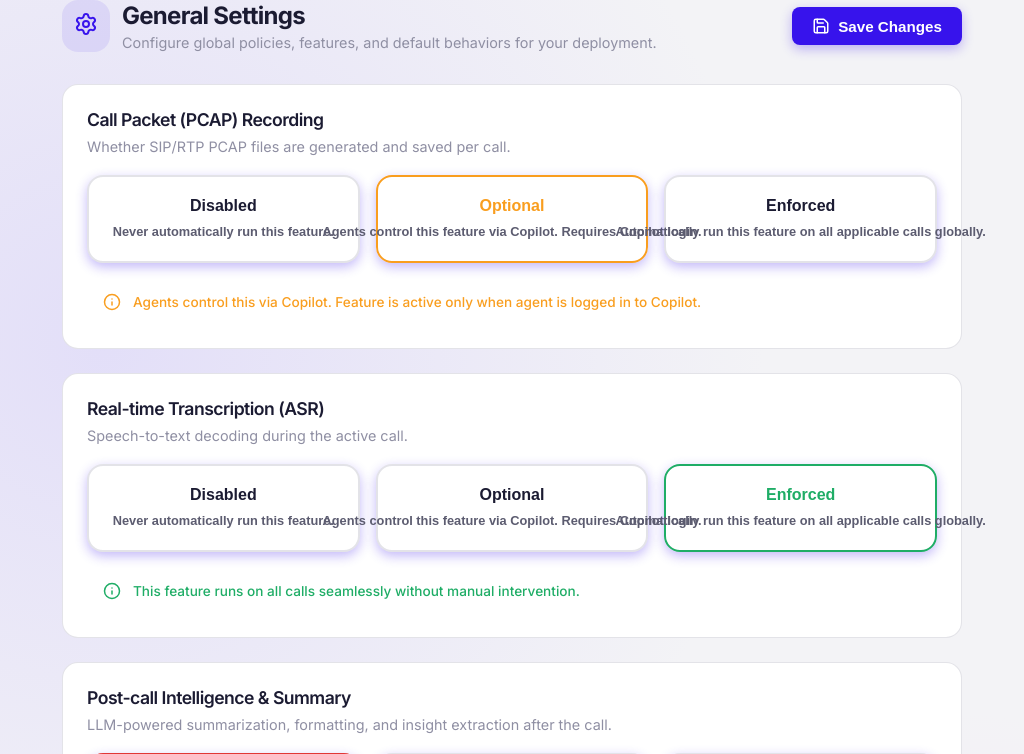
Scenario: GeneralSettings › shows error message if save fails
Click the button "Save Changes" at (877, 26), box [792,7,962,45]
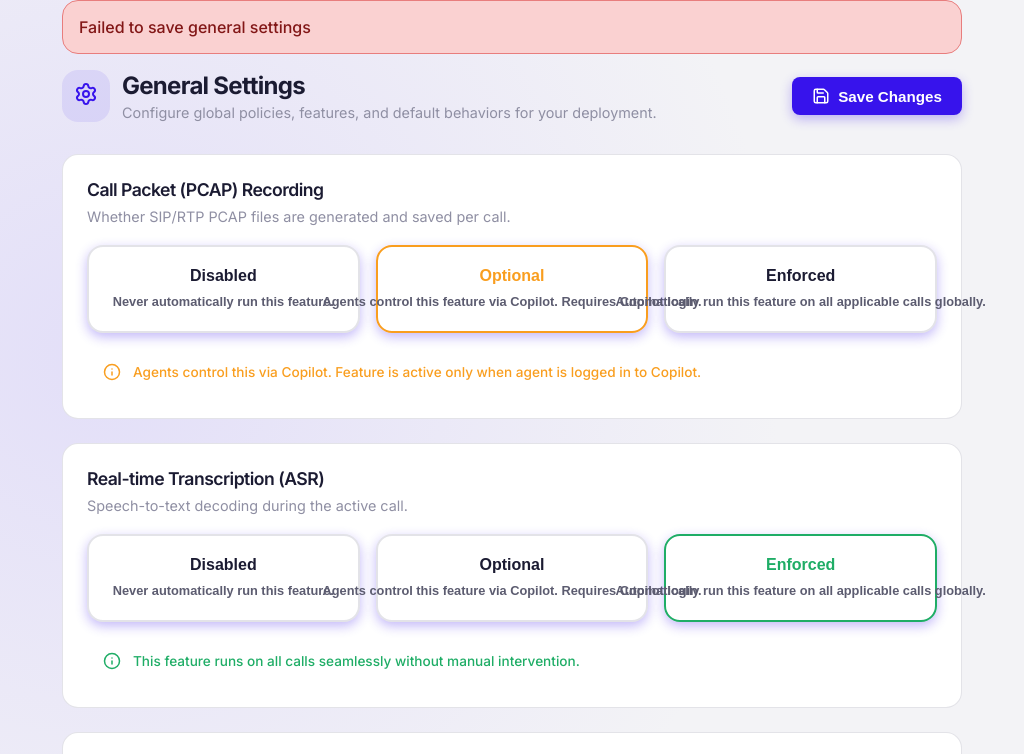
Result: the text "Failed to save general settings" is shown at [62,0,962,54]
